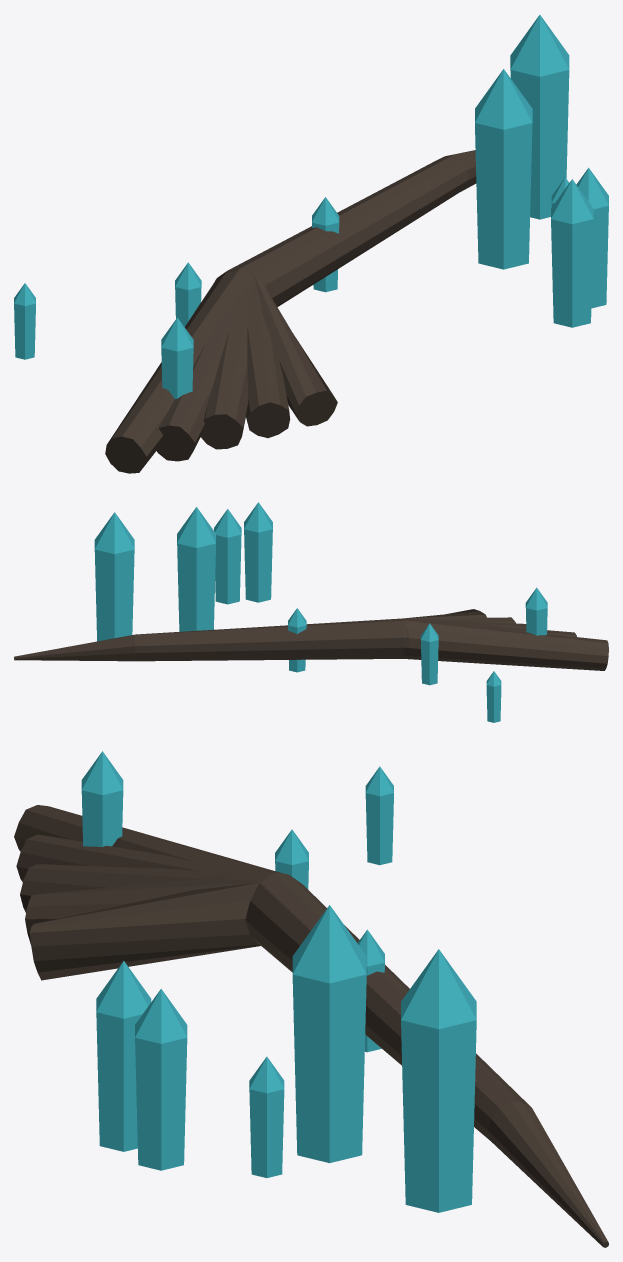
The model's file is RootMineralBank.fbx.
3 renders of one model, top to bottom at view 1: azimuth 30°, elevation 25°; view 2: azimuth 150°, elevation 25°; view 3: azimuth 270°, elevation 25°, orthographic. The views are drawn at different scales.
Visible parts, largest first — view 1: RootMineralBank; view 2: RootMineralBank; view 3: RootMineralBank.
Boxes of the visible parts, x1,y1,x2,y2 form: RootMineralBank: [14, 15, 608, 473]; RootMineralBank: [14, 502, 608, 722]; RootMineralBank: [14, 751, 608, 1247].
Bounding box in the file's own units: 4.18 × 1.24 × 2.51.
